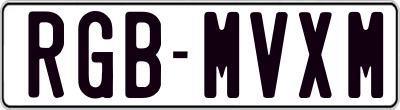B: (125, 11, 165, 99)
G: (76, 9, 114, 100)
M: (345, 9, 384, 101), (201, 10, 239, 100)
R: (27, 9, 66, 98)
V: (248, 9, 286, 98)
X: (298, 11, 336, 98)
